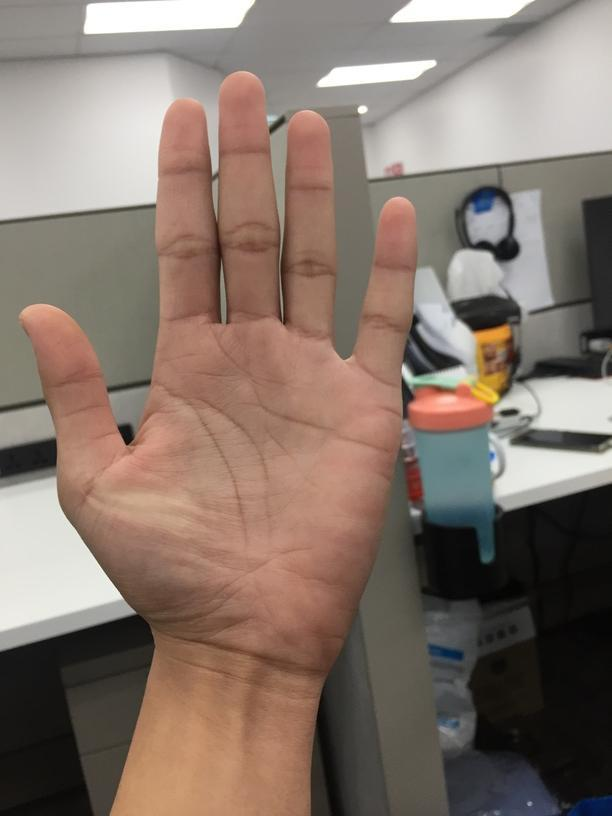hand: (18, 66, 416, 678)
